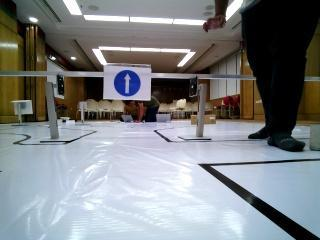straight: (107, 63, 152, 98)
